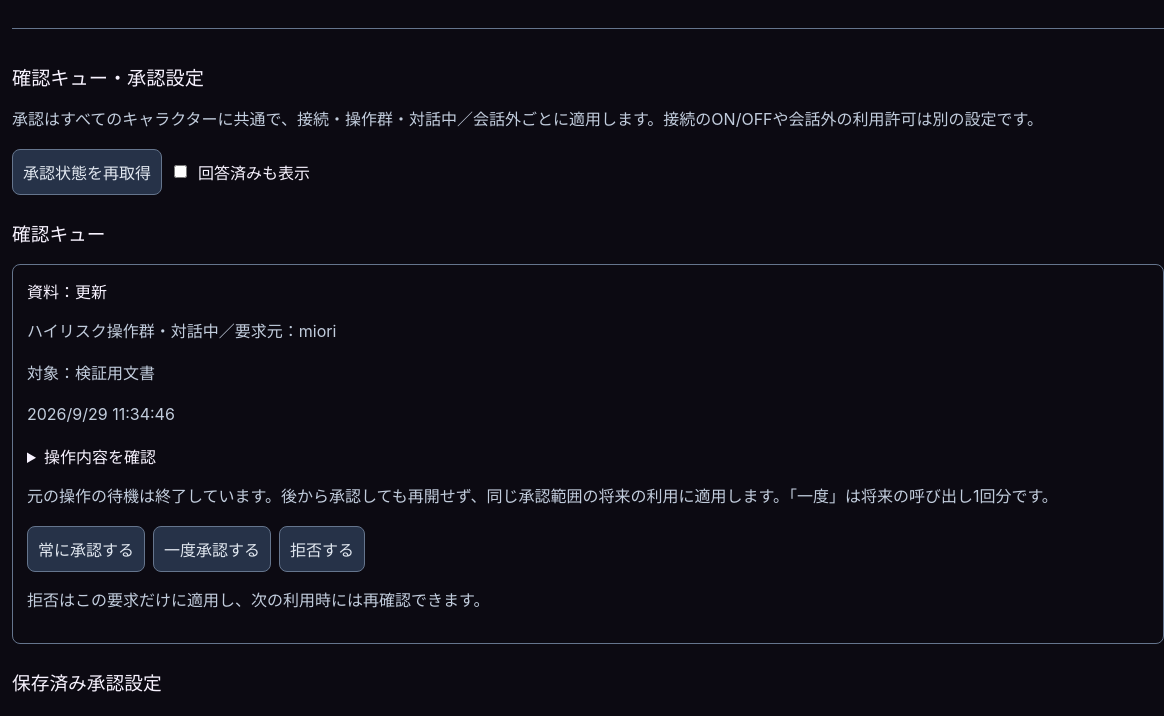
Test: 待機終了後の単回承認は将来向けと表示し、元操作を続行しない
Expected: the text "将来の呼び出し1回分" is shown, [27,486,1058,506]
Click the button "一度承認する".
click(212, 549)  # box [153,526,271,572]
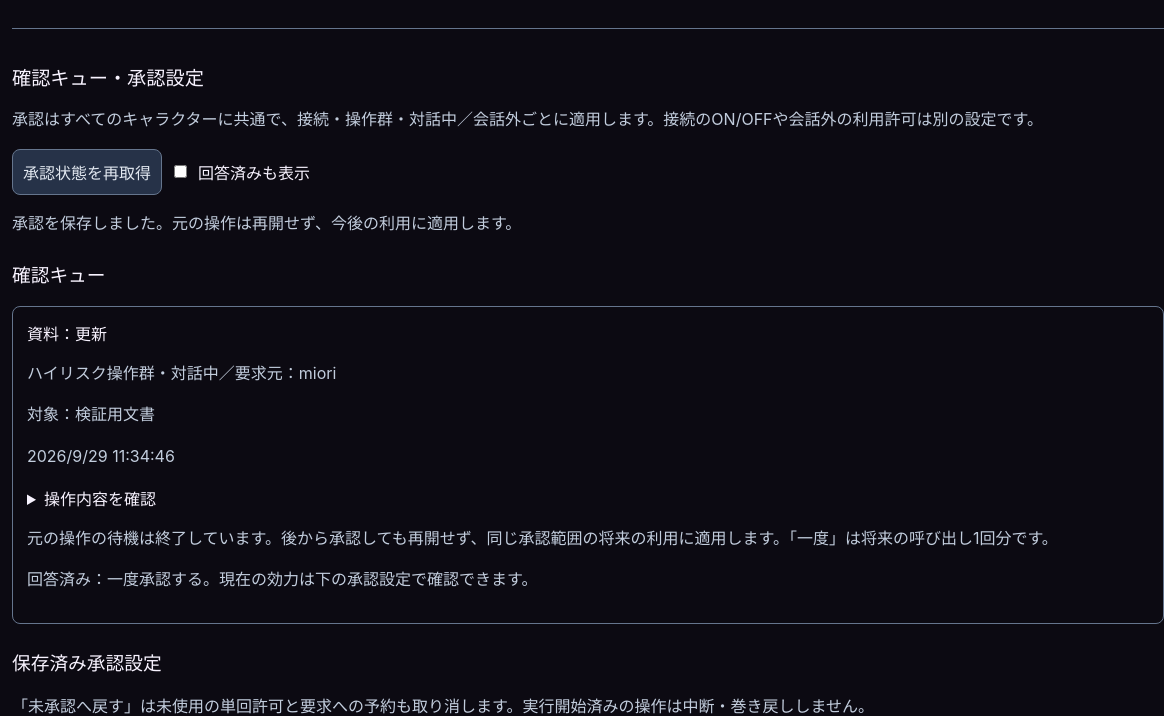
Result: the text "承認を保存しました。元の操作は再開せず、今後の利用に適用します。" is shown at [12,212,521,232]
